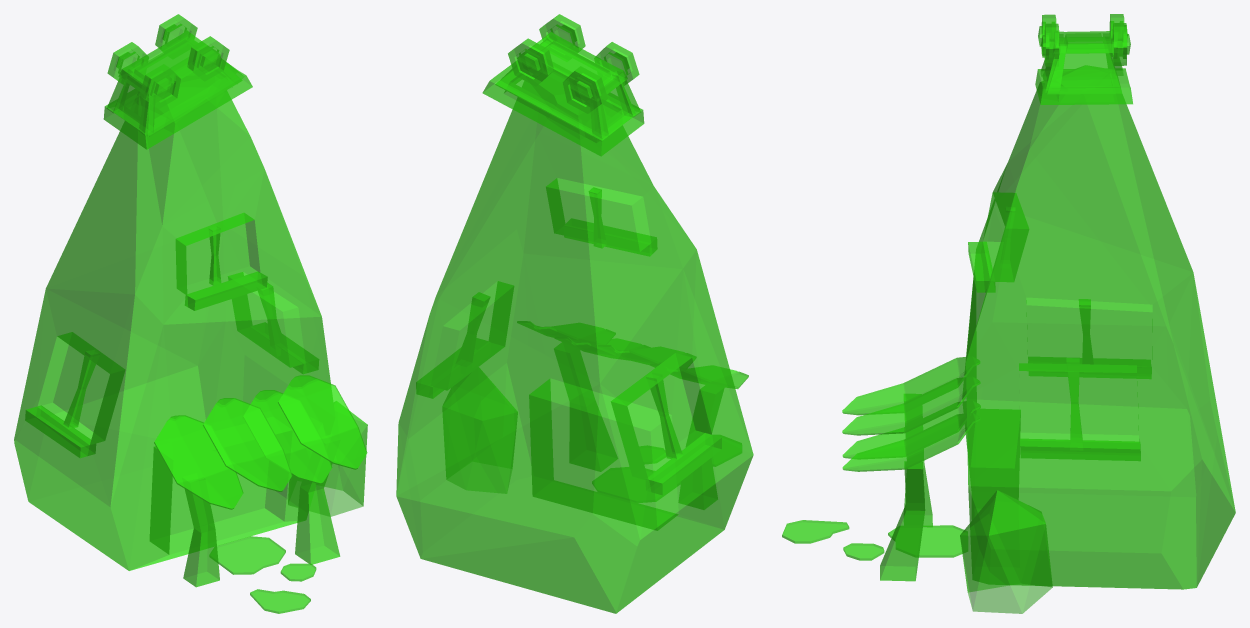
File: Miner_house_possible_to_place.fbx
3 views of the same model, side by side, from view 1: azimuth 30°, elevation 25°; view 2: azimuth 150°, elevation 25°; view 3: azimuth 270°, elevation 25° (orthographic). The views are drawn at different scales.
Parts seen in each view (by area): view 1: Cube.004; view 2: Cube.004; view 3: Cube.004.
Part boxes in pixels (x1,y1,x2,y2): Cube.004: (14, 14, 367, 613); Cube.004: (396, 14, 753, 613); Cube.004: (782, 14, 1235, 613).
Bounding box in the file's own units: 4.69 × 6.14 × 7.99.
